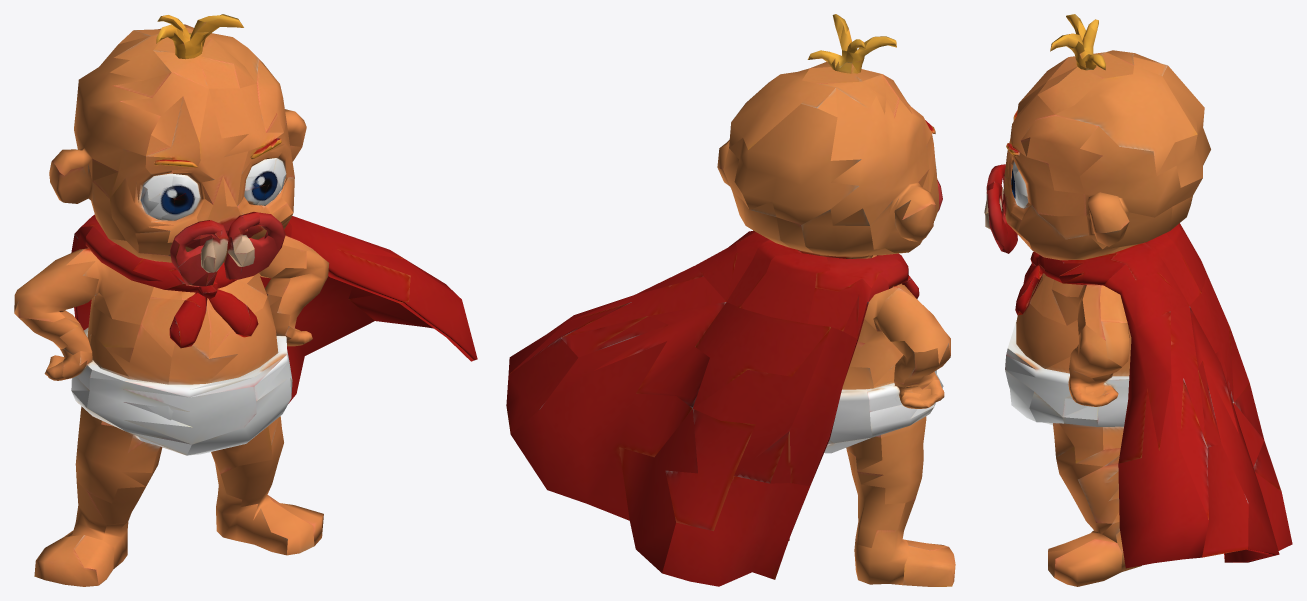
The model's file is little_b.glb.
3 views of the same model, side by side, from view 1: azimuth 30°, elevation 25°; view 2: azimuth 150°, elevation 25°; view 3: azimuth 270°, elevation 25° (orthographic). The views are drawn at different scales.
Visible parts, largest first — view 1: mesh_node; view 2: mesh_node; view 3: mesh_node.
Boxes of the visible parts, left/top/right/bottom form: mesh_node: left=14, top=14, right=477, bottom=586; mesh_node: left=506, top=14, right=955, bottom=586; mesh_node: left=984, top=14, right=1292, bottom=586.
Bounding box in the file's own units: 0.8672 × 1 × 0.5547.
Materials: 1 (1 with a texture image).
